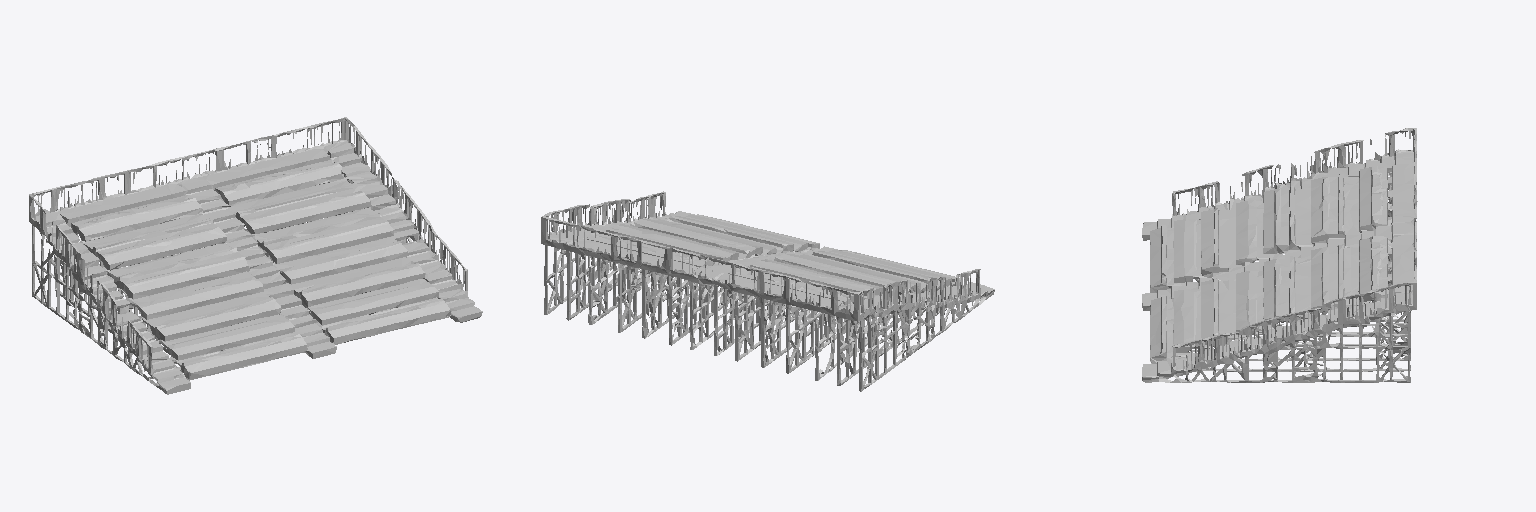
Rendered from Stadium_Bleachers_Des_1125053634_texture.obj.
The picture shows the model from 3 angles: view 1: azimuth 30°, elevation 25°; view 2: azimuth 150°, elevation 25°; view 3: azimuth 270°, elevation 25°; orthographic projection.
Visible parts, largest first — view 1: Stadium_Bleachers_Des_[number redacted]_texture; view 2: Stadium_Bleachers_Des_[number redacted]_texture; view 3: Stadium_Bleachers_Des_[number redacted]_texture.
Boxes of the visible parts, x1,y1,x2,y2 form: Stadium_Bleachers_Des_[number redacted]_texture: [29, 117, 482, 394]; Stadium_Bleachers_Des_[number redacted]_texture: [541, 191, 994, 391]; Stadium_Bleachers_Des_[number redacted]_texture: [1142, 128, 1417, 382].
Size of the model in its own units: 13.09 by 4 by 9.8.